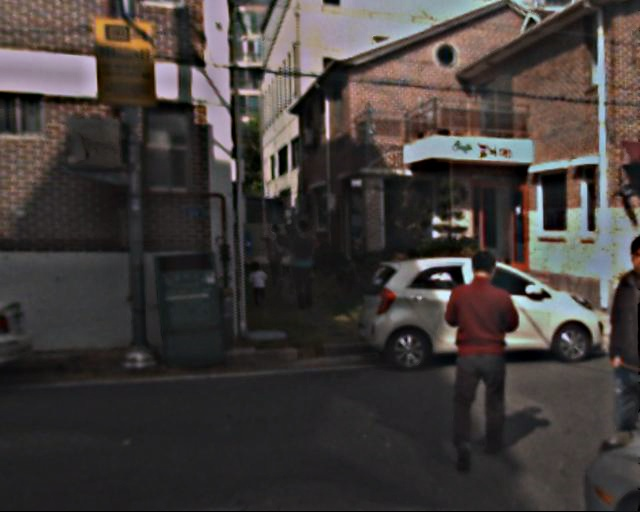person: (438, 250, 526, 461), (584, 235, 640, 469), (285, 216, 323, 309), (263, 221, 291, 289), (249, 259, 268, 307)
